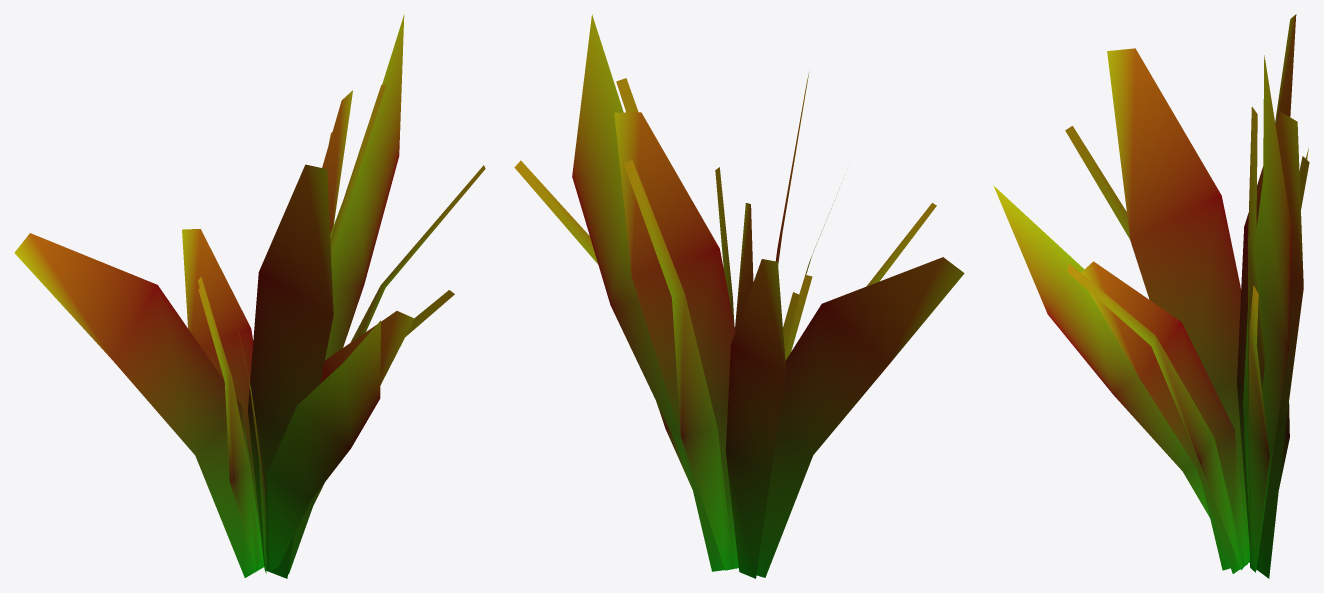
File: tmjhcayia_Var7_LOD2.fbx
3 views of the same model, side by side, from view 1: azimuth 30°, elevation 25°; view 2: azimuth 150°, elevation 25°; view 3: azimuth 270°, elevation 25° (orthographic). The views are drawn at different scales.
Parts seen in each view (by area): view 1: Var7_LOD2; view 2: Var7_LOD2; view 3: Var7_LOD2.
Part boxes in pixels (x1,y1,x2,y2): Var7_LOD2: (14, 14, 485, 578); Var7_LOD2: (514, 14, 964, 578); Var7_LOD2: (993, 14, 1309, 578).
Size of the model in its own units: 6.36 by 6.9 by 3.33.
